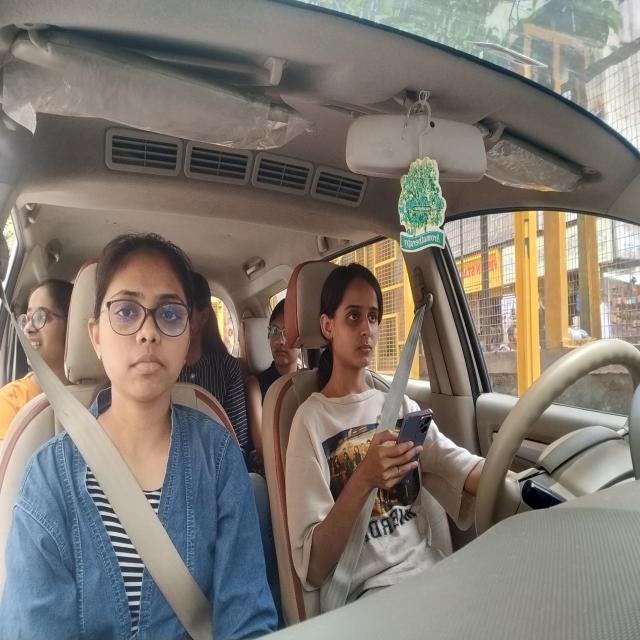mobile: (397, 406, 432, 477)
person: (82, 233, 196, 412), (316, 260, 386, 373), (20, 275, 72, 375), (268, 287, 301, 378), (189, 278, 219, 356)
